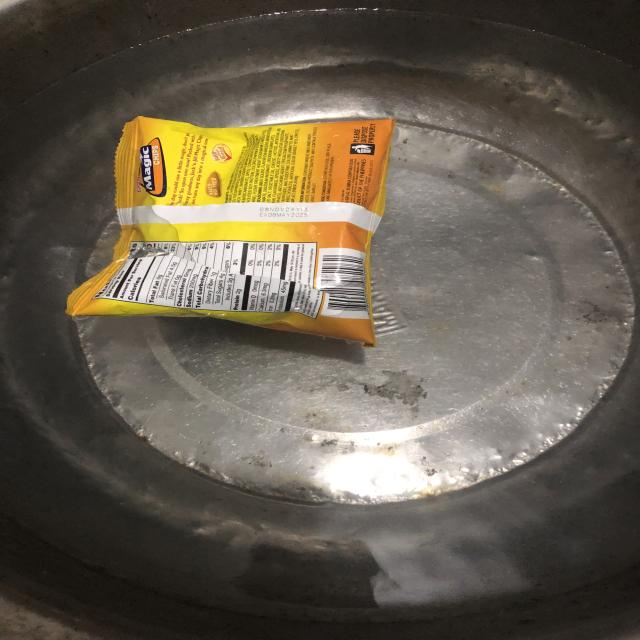Plastic Wrapper: (76, 110, 388, 347)
